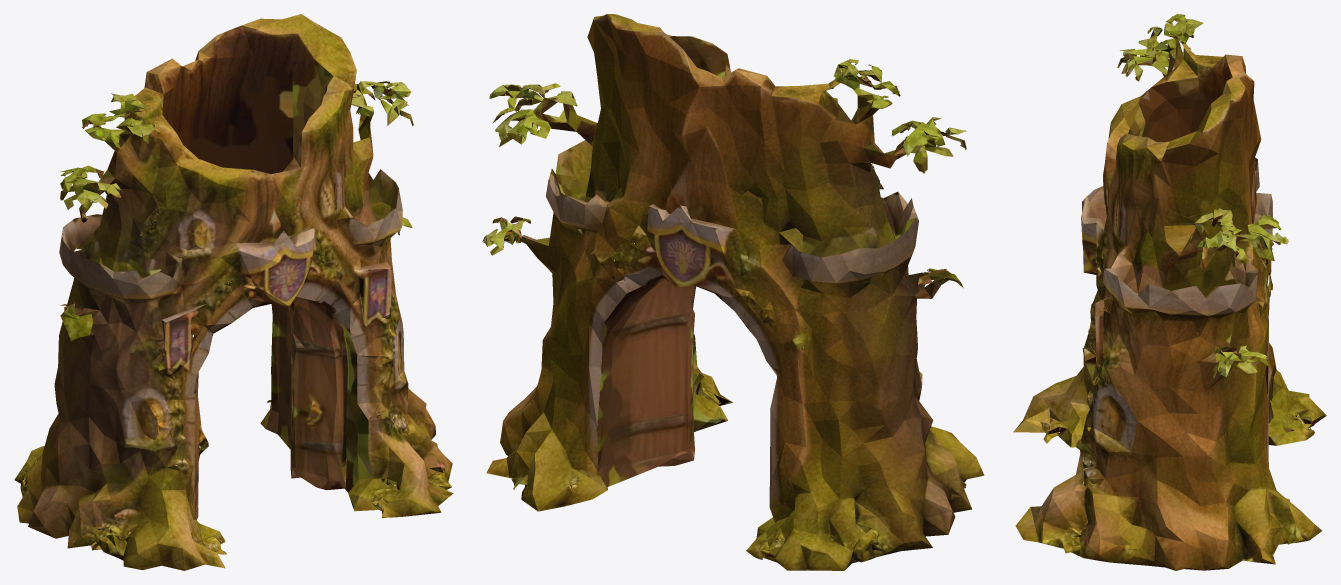
File: fairy_hollow_gate_1117.glb
3 views of the same model, side by side, from view 1: azimuth 30°, elevation 25°; view 2: azimuth 150°, elevation 25°; view 3: azimuth 270°, elevation 25° (orthographic). The views are drawn at different scales.
Visible parts, largest first — view 1: world; view 2: world; view 3: world.
Part boxes in pixels (left/top/right/bottom): world: left=14, top=14, right=453, bottom=570; world: left=482, top=14, right=984, bottom=570; world: left=1013, top=14, right=1326, bottom=570.
Bounding box in the file's own units: 0.9763 × 1 × 0.6731.
1 material, 1 textured.
